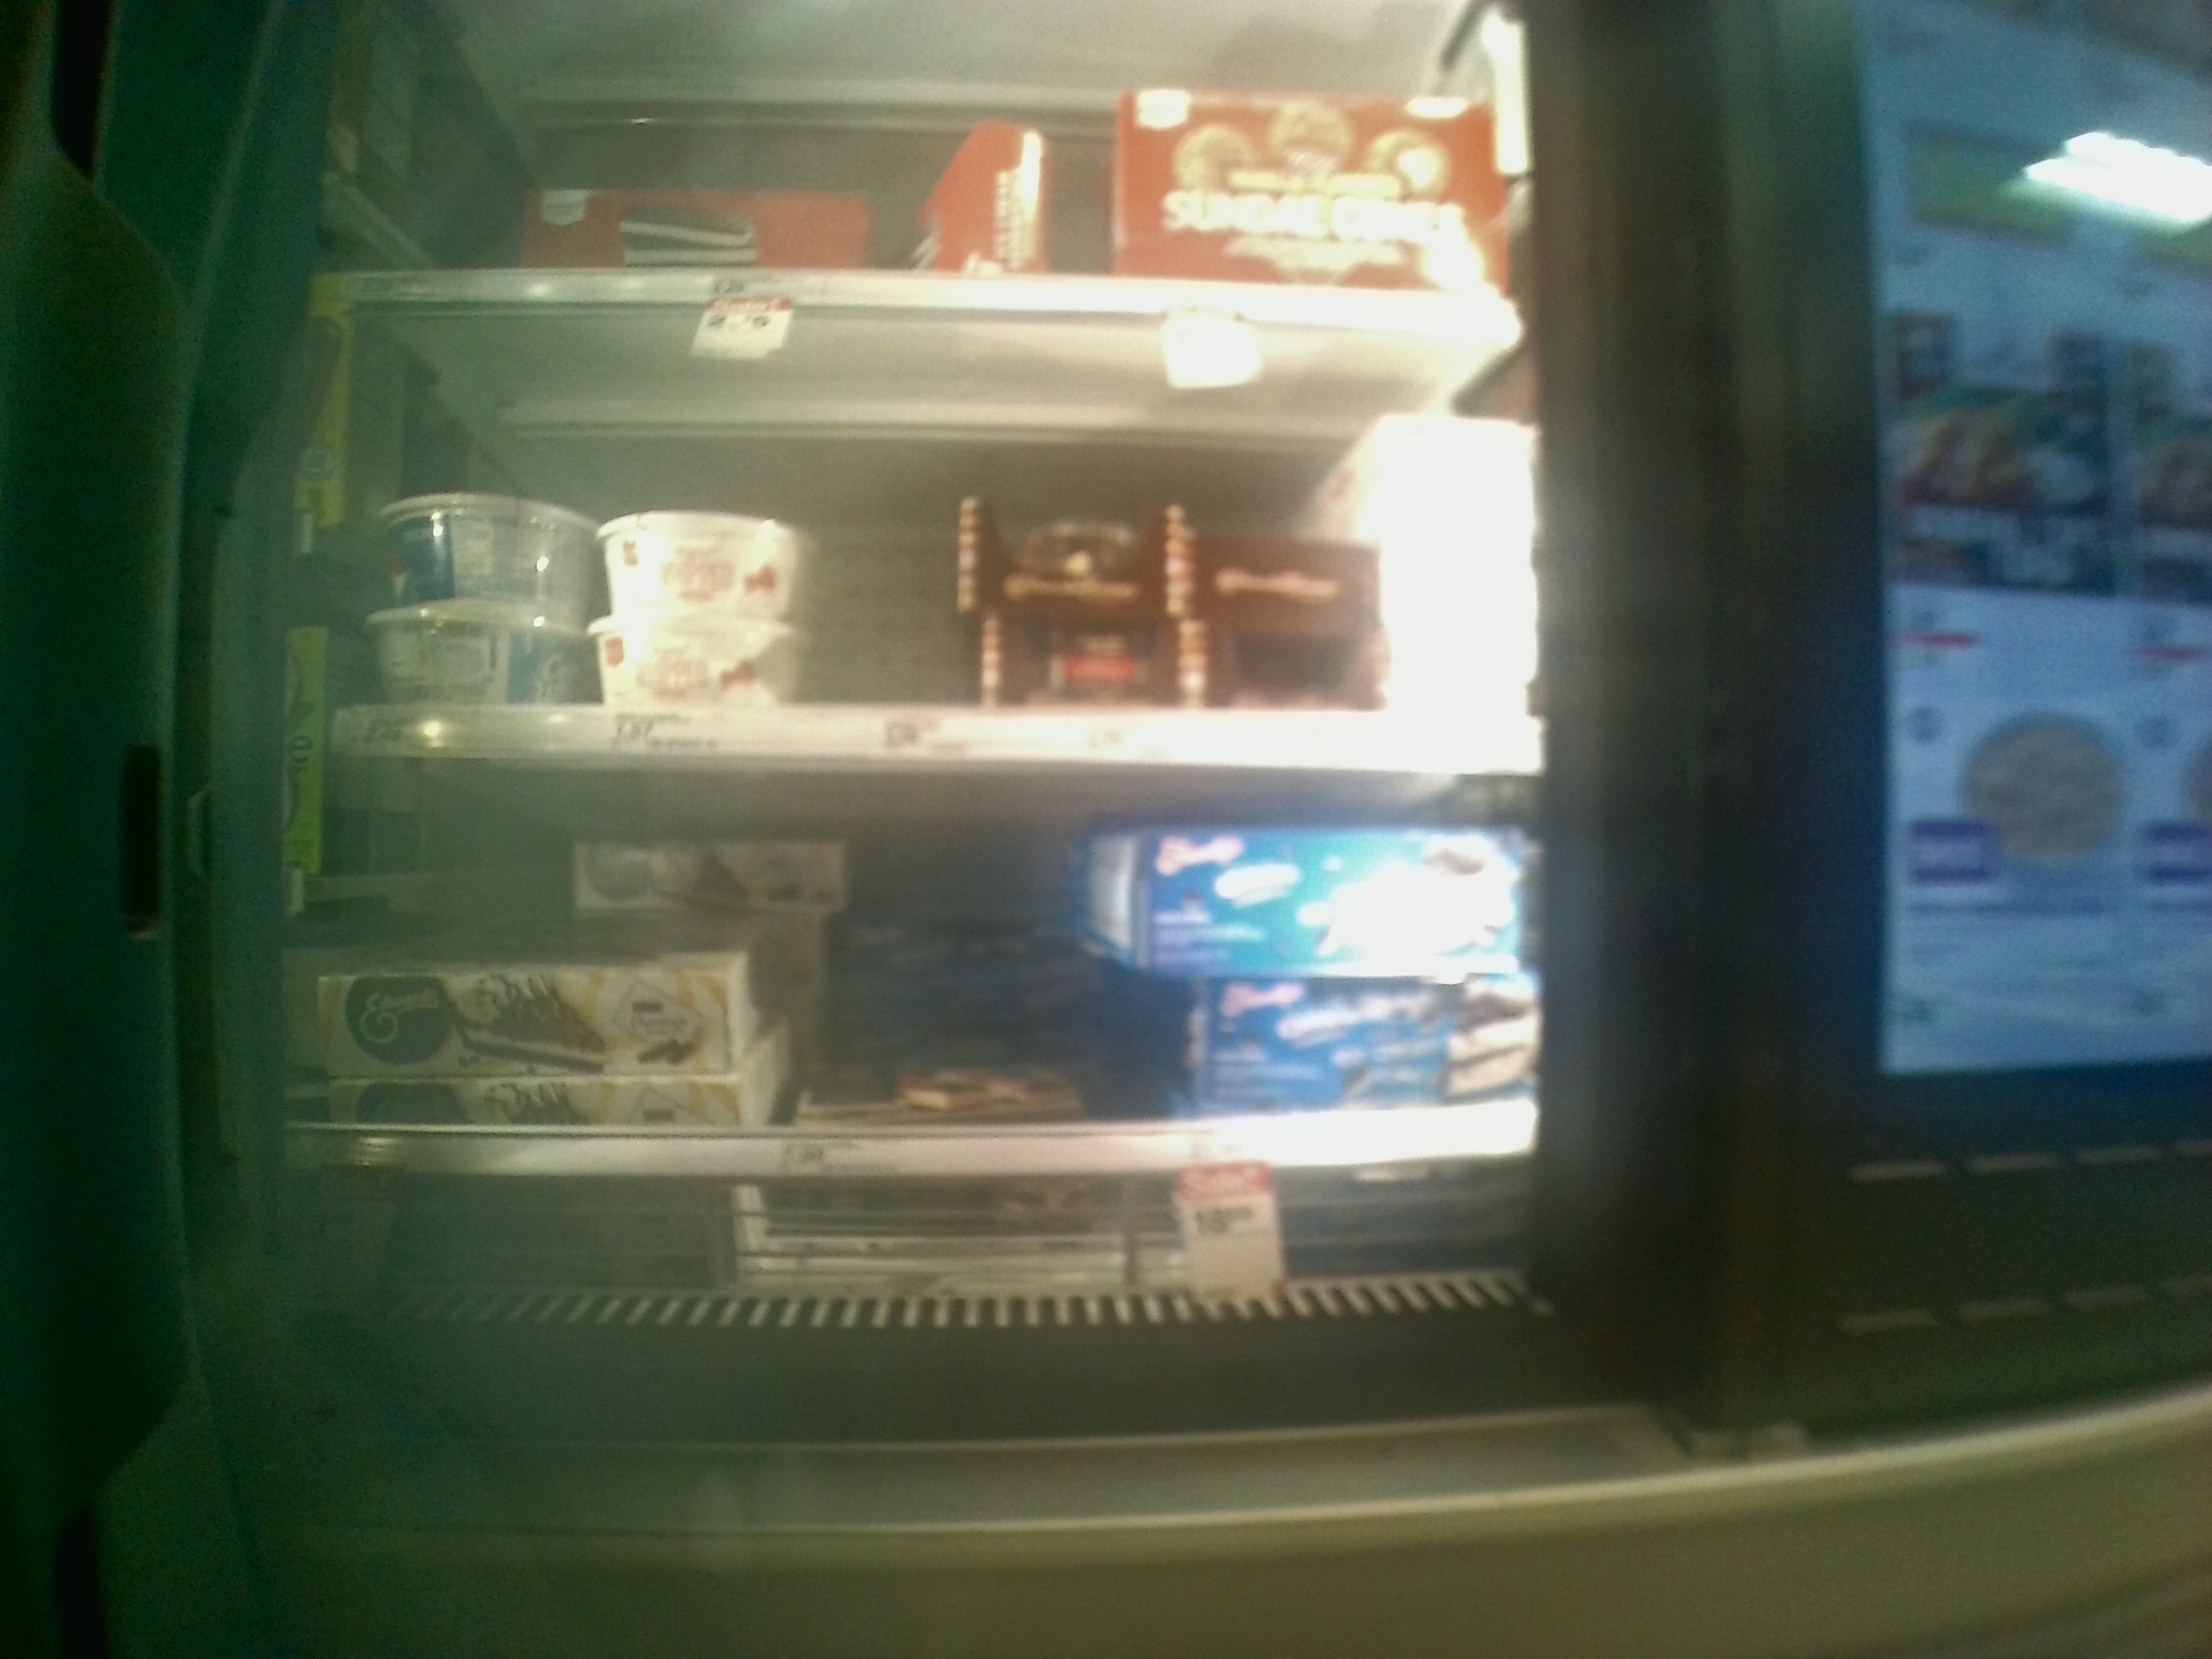frozen-food-shelf: (286, 772, 1554, 1178)
